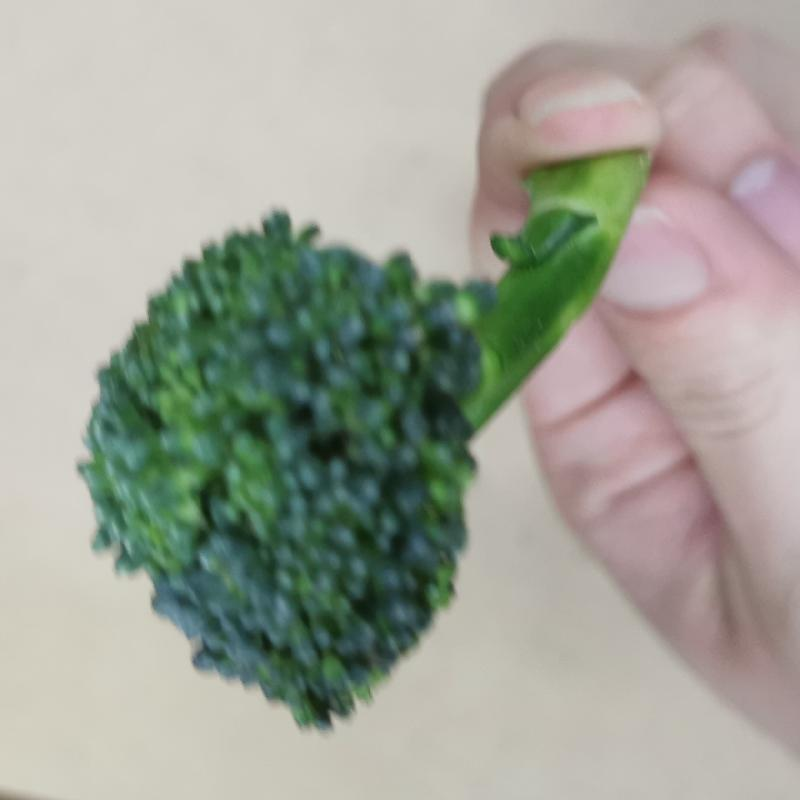broccoli: (84, 142, 654, 733)
